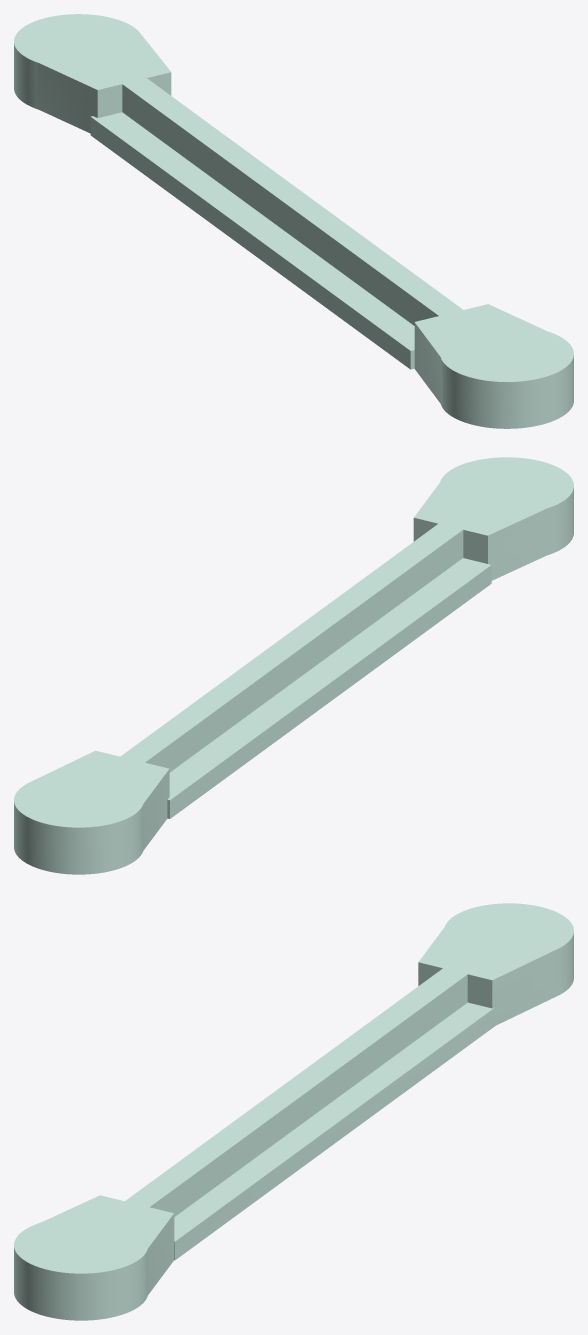
3 renders of one model, top to bottom at view 1: azimuth 30°, elevation 25°; view 2: azimuth 150°, elevation 25°; view 3: azimuth 330°, elevation 25°, orthographic.
Parts seen in each view (by area): view 1: Renderer Node; view 2: Renderer Node; view 3: Renderer Node.
Boxes of the visible parts, bbox=[...] form: Renderer Node: bbox=[14, 14, 573, 428]; Renderer Node: bbox=[14, 457, 573, 874]; Renderer Node: bbox=[14, 903, 573, 1320].
Bounding box in the file's own units: 0.2024 × 0.0781 × 1.49.
